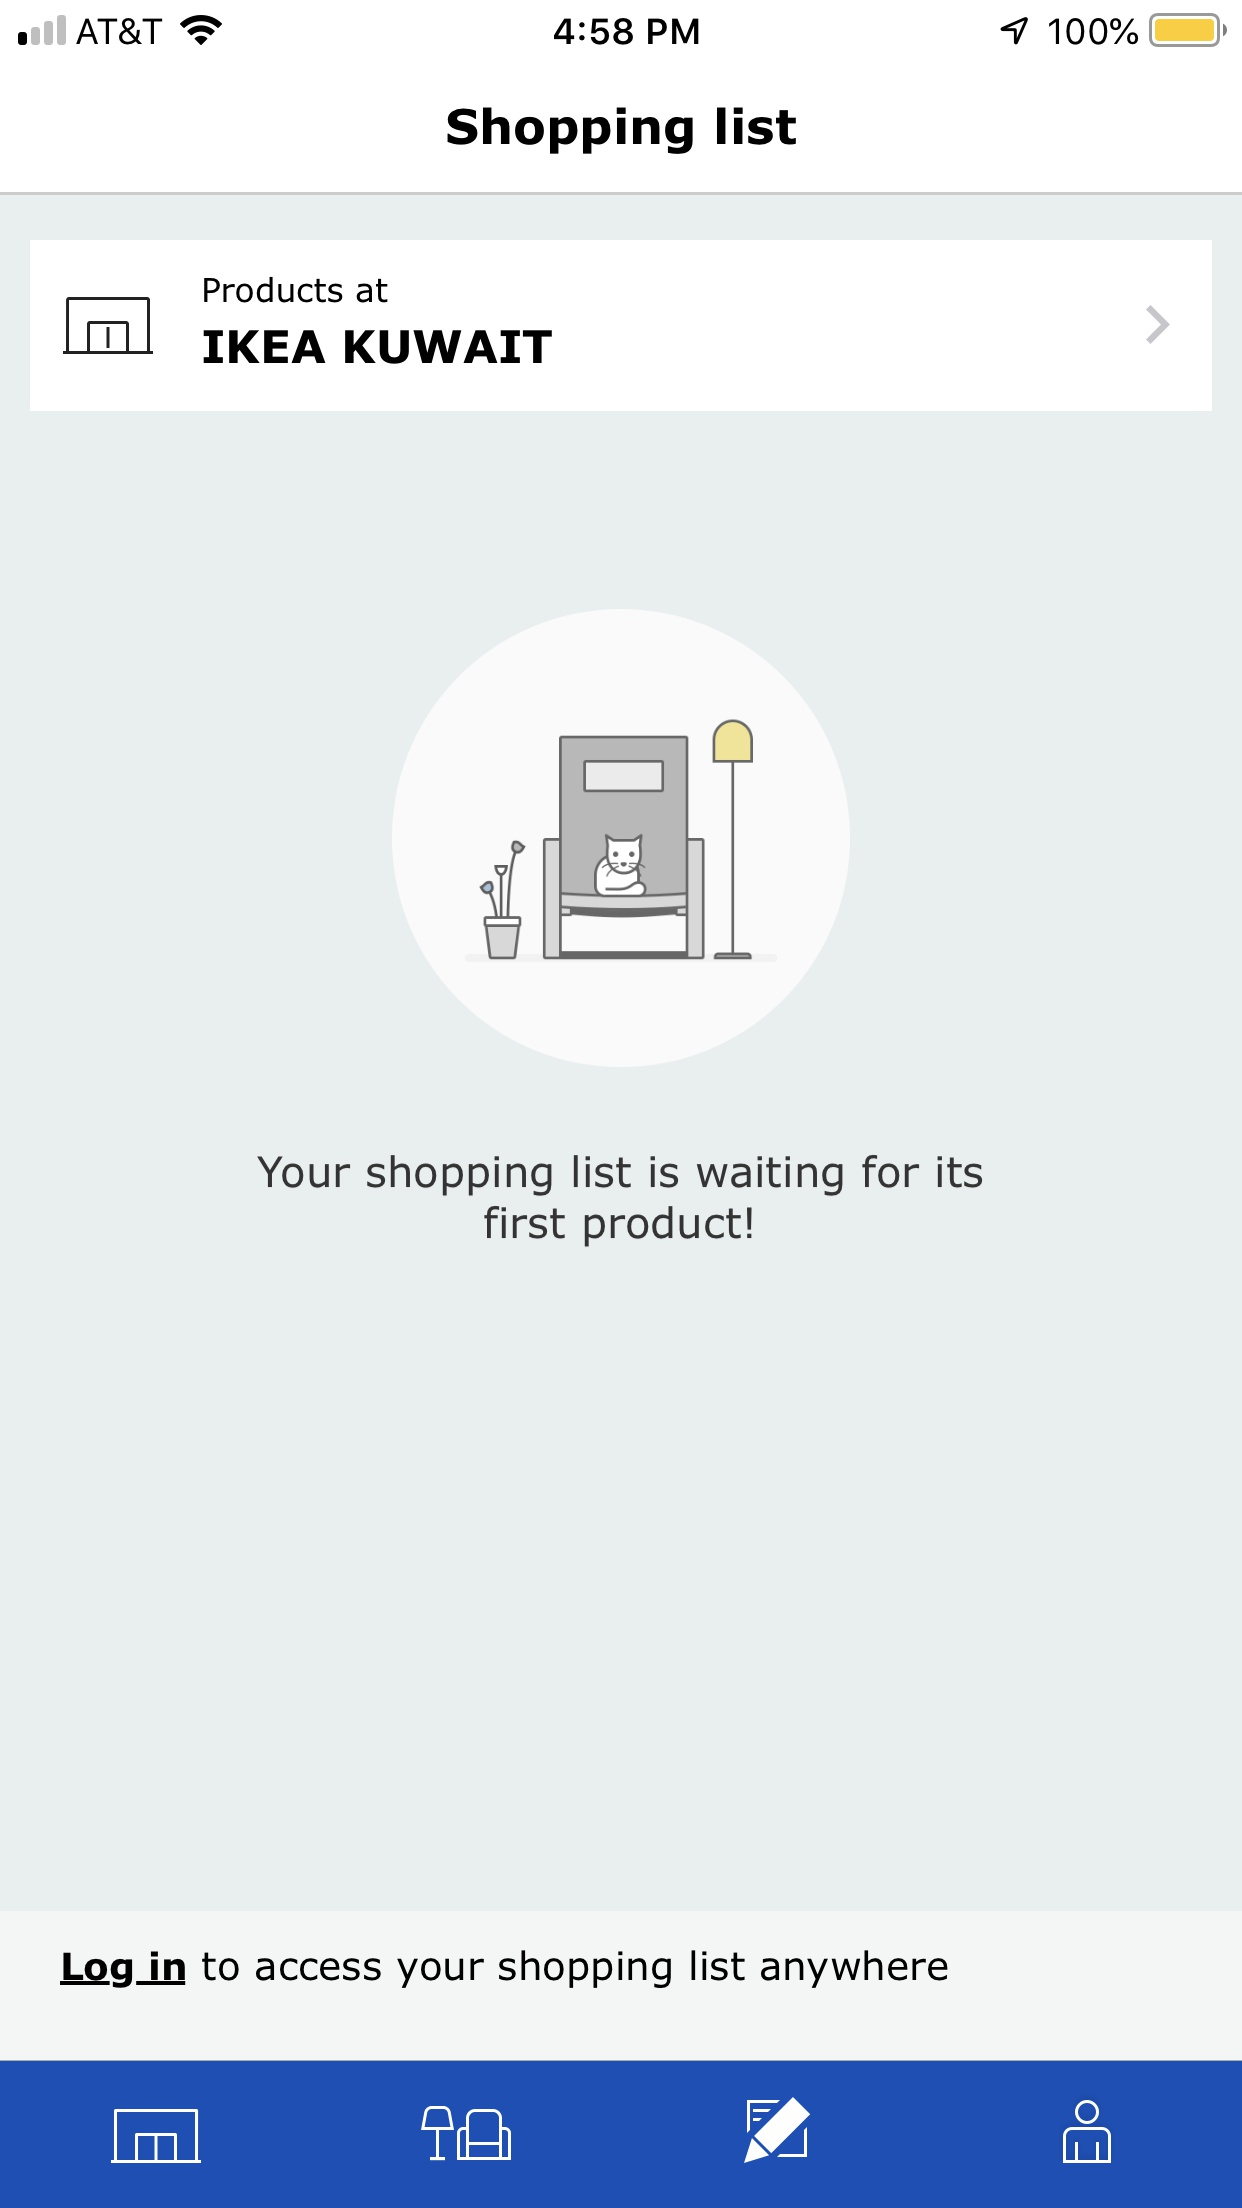Icon: (745, 2096, 811, 2164), (1062, 2097, 1112, 2164), (1145, 303, 1171, 346)
Image: (391, 610, 851, 1069), (422, 2105, 513, 2163), (64, 299, 155, 356), (111, 2108, 203, 2164)
Text: (256, 1156, 983, 1248), (61, 1950, 949, 1990), (447, 108, 798, 156), (203, 331, 554, 365), (205, 278, 390, 305)
UpperTaskBar: (2, 2, 1242, 49)
